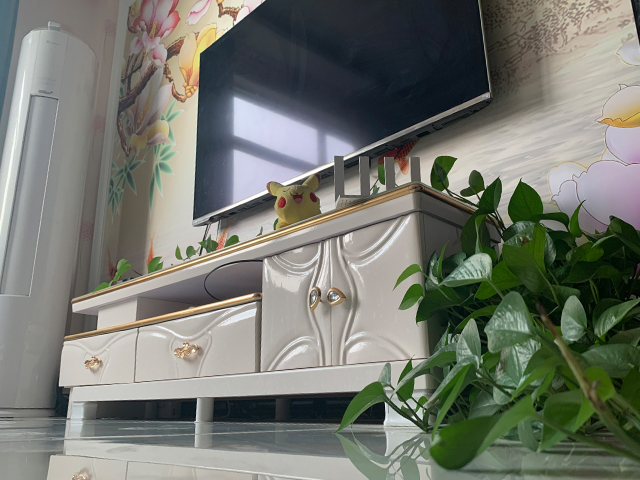cabinet: (58, 182, 504, 427)
